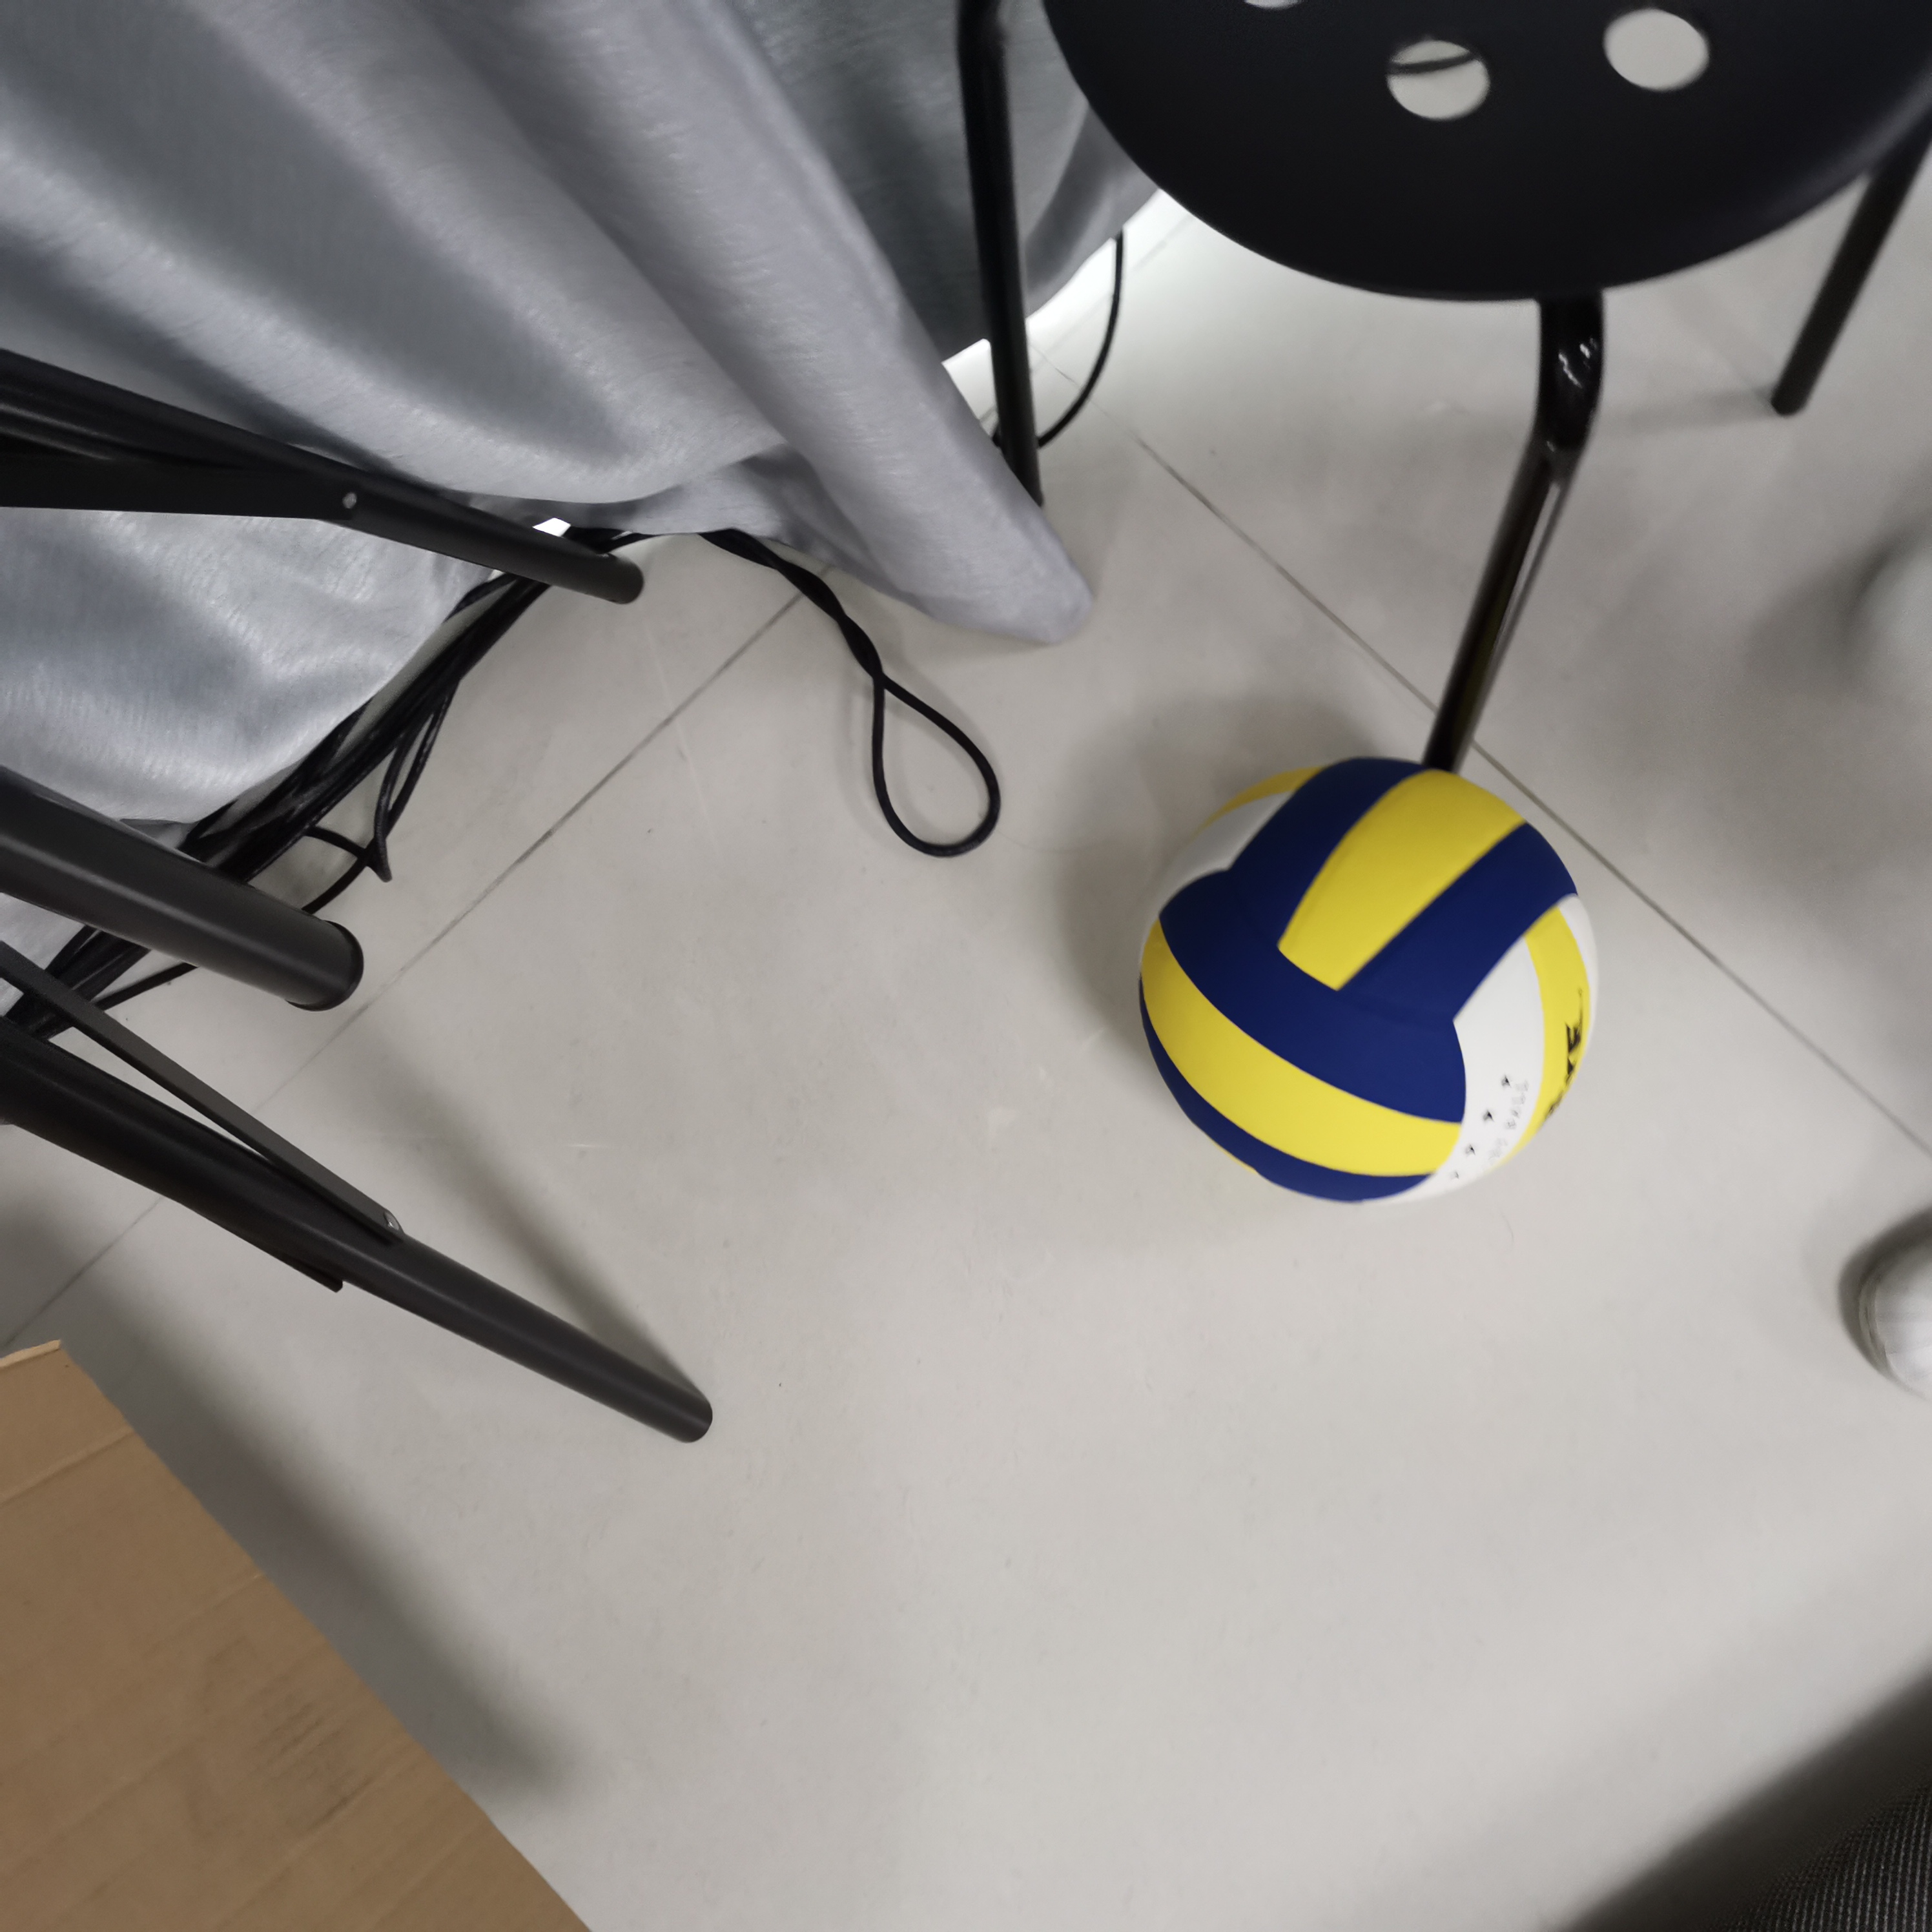volleyball: (1131, 764, 1605, 1205)
